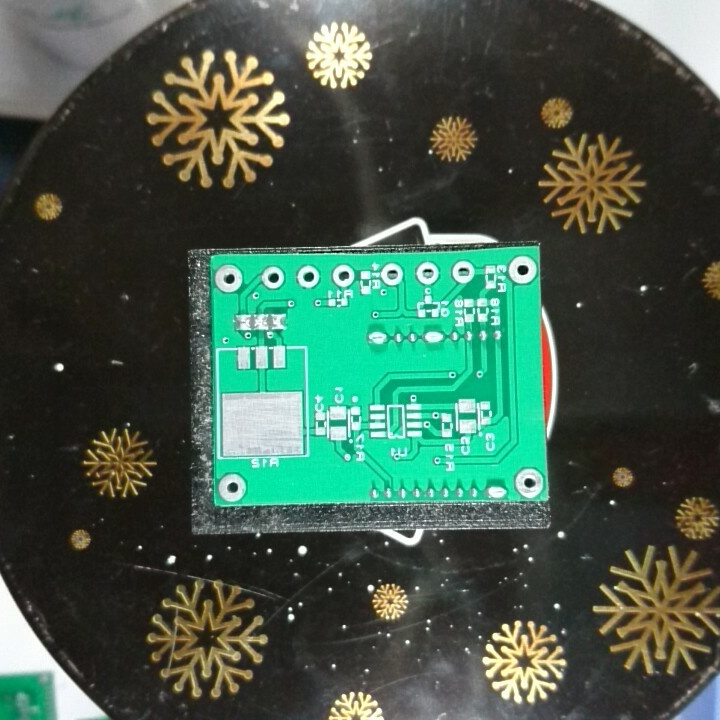F: (215, 472, 251, 503), (505, 254, 538, 287), (213, 263, 246, 295), (513, 467, 545, 500), (329, 261, 356, 290), (295, 263, 322, 291), (259, 265, 287, 291), (414, 261, 442, 287), (379, 260, 405, 287), (449, 259, 477, 284)
P: (482, 481, 509, 501), (365, 327, 389, 348), (422, 327, 447, 346)
